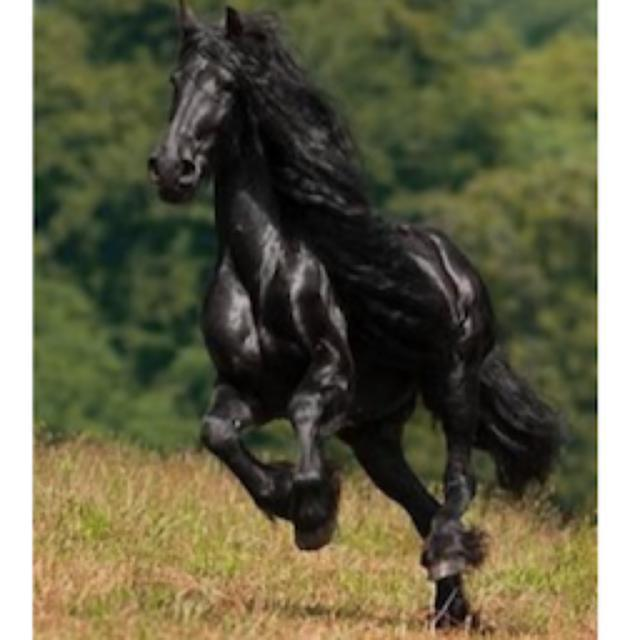Horse: (138, 0, 568, 635)
